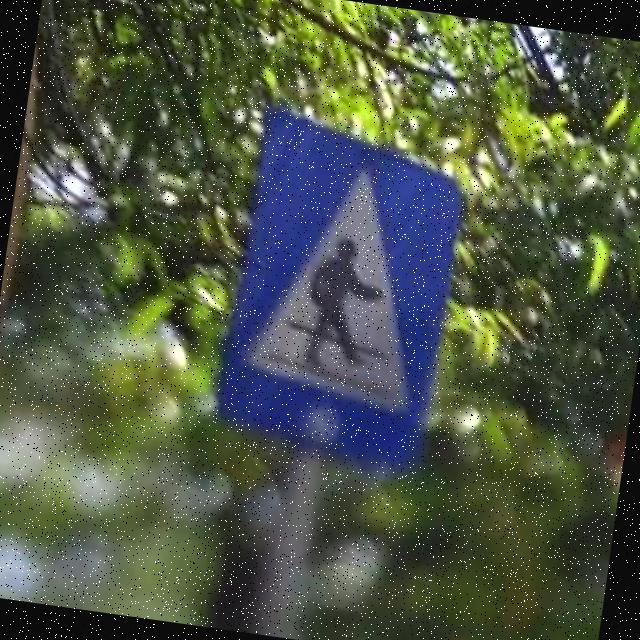Przejscie dla pieszych: (208, 102, 474, 470)
